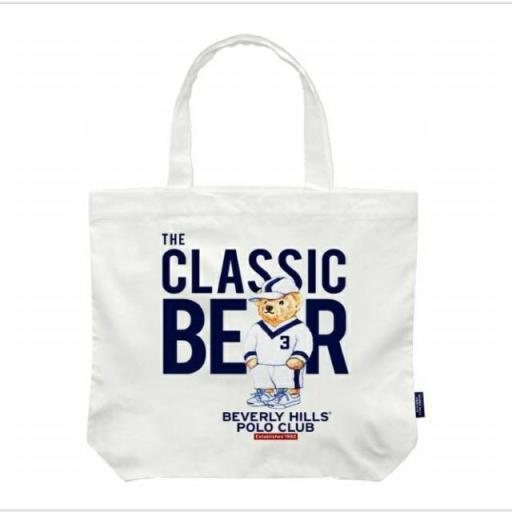bag: (78, 20, 446, 512)
